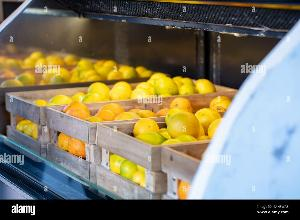orange: (0, 59, 246, 184)
